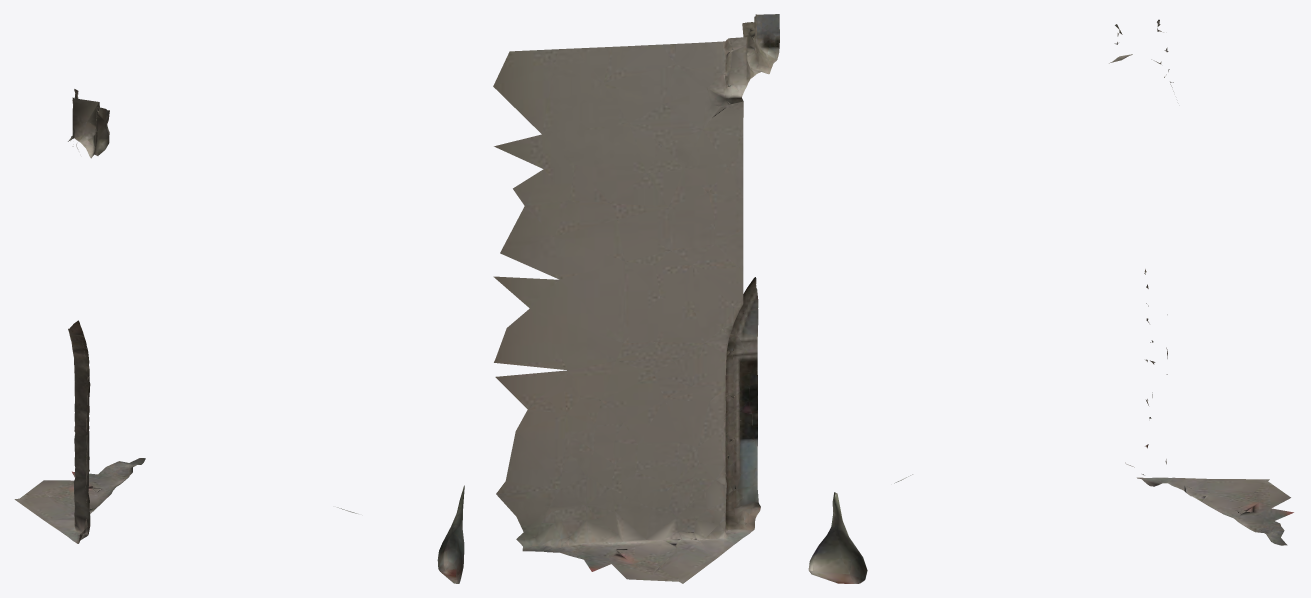
3 views of the same model, side by side, from view 1: azimuth 30°, elevation 25°; view 2: azimuth 150°, elevation 25°; view 3: azimuth 270°, elevation 25° (orthographic). The views are drawn at different scales.
Bounding box in the file's own units: 3.48 × 5.98 × 5.69.
Materials: 1 (1 with a texture image).
